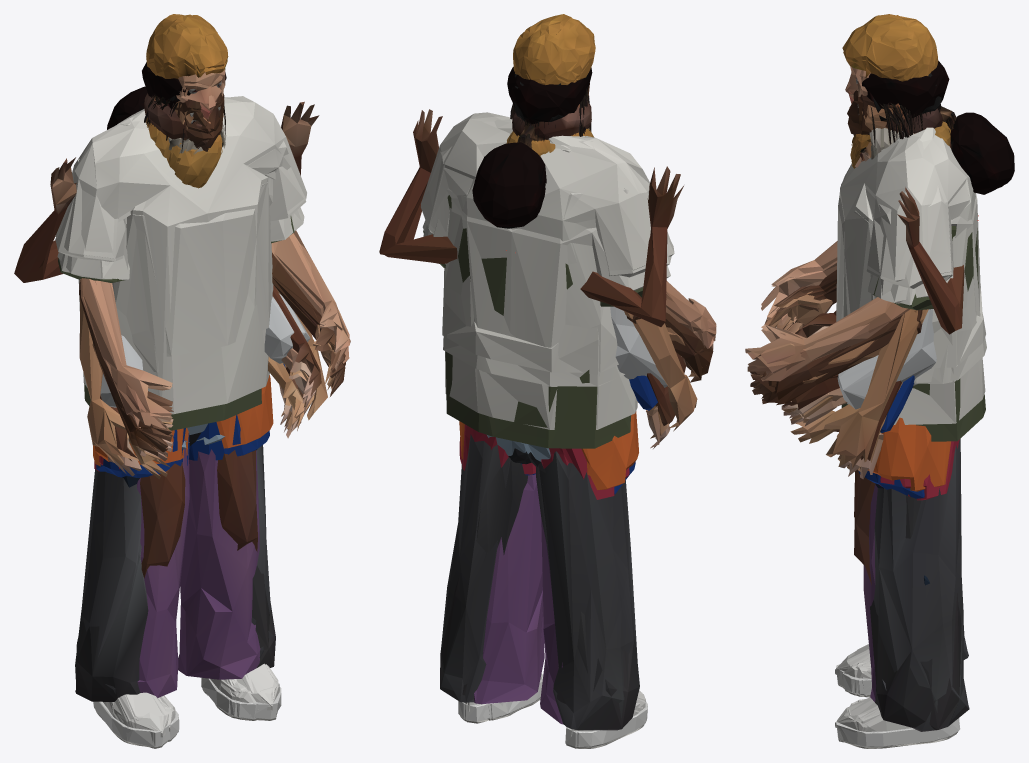
File: crowd.glb
3 renders of one model, left to right at view 1: azimuth 30°, elevation 25°; view 2: azimuth 150°, elevation 25°; view 3: azimuth 270°, elevation 25°, orthographic.
Visible parts, largest first — view 1: Look 05, Look D2, Look 03, Look river-arena, Look 01, Look D1, Look 08, Look D3, Look 07, Look C, Look 09, Look 06 (+3 smaller); view 2: Look 05, Look D3, Look river-arena, Look D2, Look 03, Look 09, Look 01, Look D1, Look 08, Look C, Look 07, Look B (+1 smaller); view 3: Look 05, Look D2, Look 01, Look river-arena, Look D3, Look D1, Look 09, Look 07, Look 08, Look 03, Look 04, Look C (+4 smaller).
Boxes of the visible parts, x1,y1,x2,y2 form: Look 05: (55, 14, 350, 740); Look D2: (55, 59, 349, 748); Look 03: (136, 363, 314, 717); Look river-arena: (14, 86, 319, 577); Look 01: (75, 95, 345, 715); Look D1: (59, 62, 344, 723); Look 08: (100, 118, 315, 697); Look D3: (57, 99, 327, 706); Look 07: (79, 93, 345, 748); Look C: (100, 93, 304, 741); Look 09: (58, 95, 335, 704); Look 06: (129, 357, 304, 715); Look 05: (421, 14, 716, 748); Look D3: (422, 93, 697, 748); Look river-arena: (379, 109, 683, 461); Look D2: (421, 58, 716, 746); Look 03: (474, 386, 667, 724); Look 09: (423, 74, 706, 742); Look 01: (440, 90, 709, 747); Look D1: (423, 67, 702, 711); Look 08: (506, 128, 667, 680); Look C: (512, 101, 675, 677); Look 07: (458, 83, 713, 748); Look B: (541, 375, 670, 678); Look 05: (745, 14, 985, 747); Look D2: (747, 52, 985, 747); Look 01: (750, 103, 968, 746); Look river-arena: (854, 112, 1014, 584); Look D3: (823, 103, 986, 732); Look D1: (752, 61, 976, 724); Look 09: (758, 71, 985, 662); Look 07: (750, 90, 951, 748); Look 08: (781, 121, 950, 701); Look 03: (782, 147, 877, 702); Look 04: (782, 106, 956, 702); Look C: (834, 108, 942, 705).
Bounding box in the file's own units: 0.7502 × 1.75 × 0.6156.
